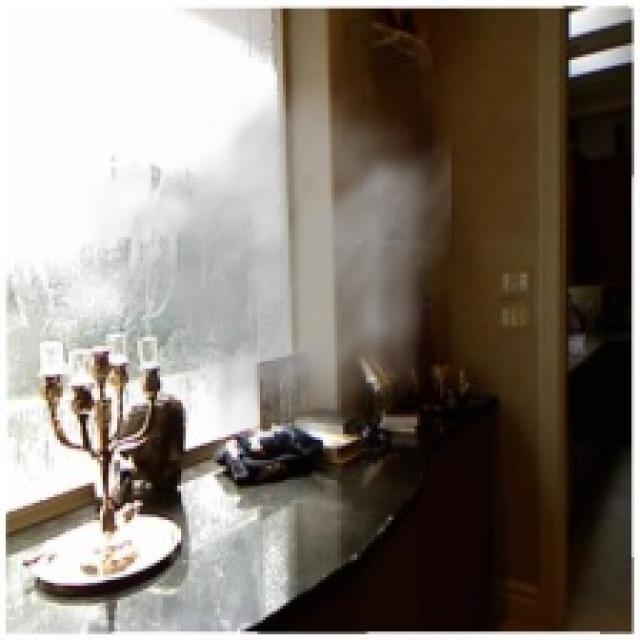smoke: (80, 69, 451, 460)
